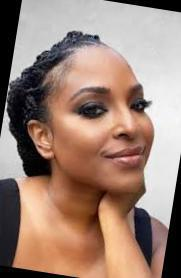Sober: (60, 54, 157, 199)
